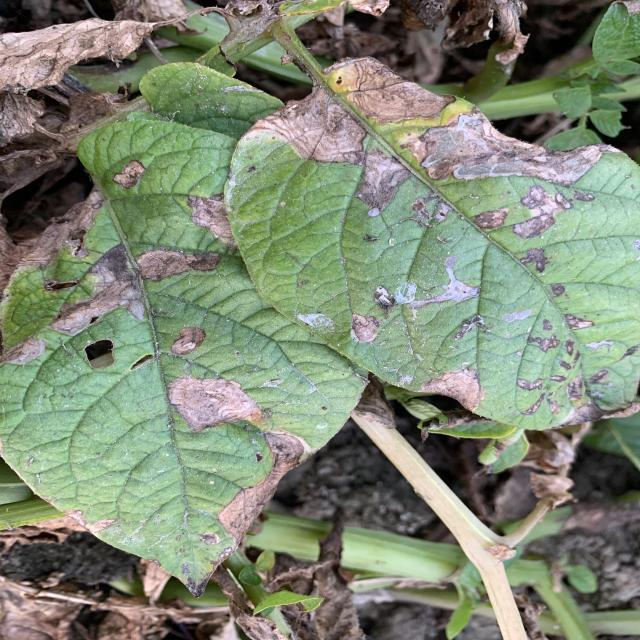lateblight: (327, 59, 615, 186), (248, 89, 410, 218), (100, 159, 225, 256), (217, 431, 310, 542), (15, 189, 103, 272), (515, 316, 588, 406), (47, 279, 145, 336), (168, 376, 263, 432), (377, 70, 455, 125), (513, 185, 573, 239), (420, 368, 485, 412), (137, 249, 222, 282), (373, 281, 417, 318), (383, 381, 440, 404), (352, 314, 382, 342), (473, 209, 508, 229), (522, 249, 547, 272), (520, 400, 542, 415), (575, 192, 595, 201), (427, 404, 437, 410), (412, 411, 420, 418)
